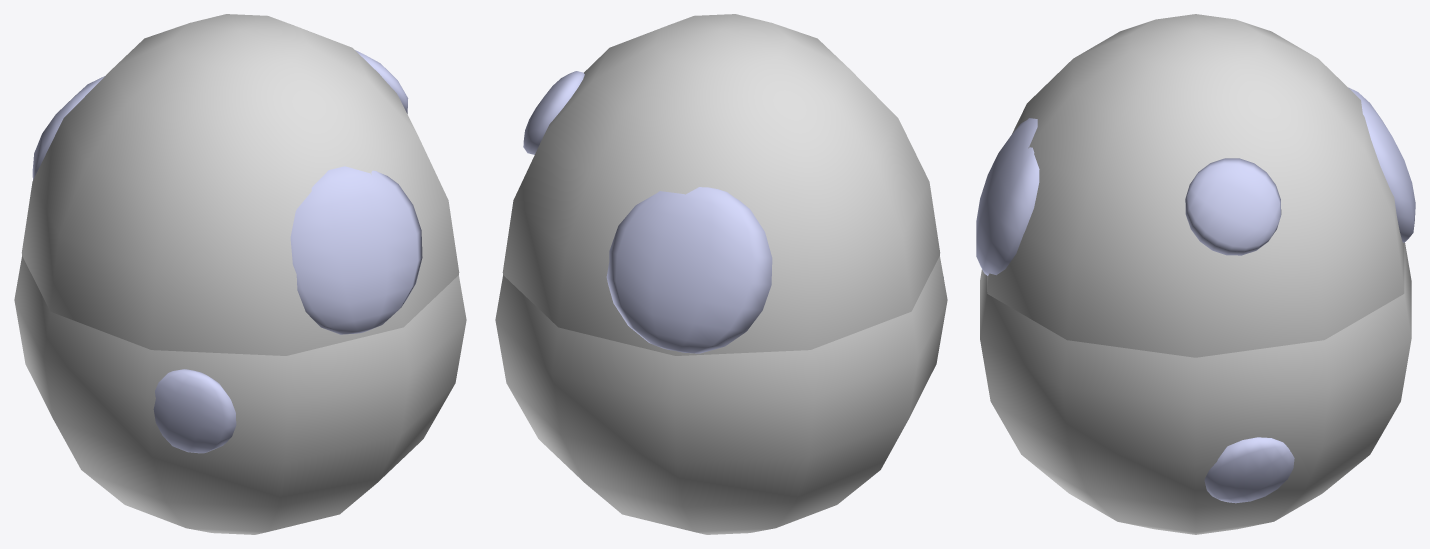
File: ryuRan.glb
3 views of the same model, side by side, from view 1: azimuth 30°, elevation 25°; view 2: azimuth 150°, elevation 25°; view 3: azimuth 270°, elevation 25° (orthographic).
Visible parts, largest first — view 1: 000_Sphere_4; view 2: 000_Sphere_4; view 3: 000_Sphere_4.
Part boxes in pixels (x1,y1,x2,y2): 000_Sphere_4: (14, 14, 466, 534); 000_Sphere_4: (495, 14, 947, 534); 000_Sphere_4: (976, 14, 1415, 534).
Bounding box in the file's own units: 0.825 × 0.9714 × 0.7995.
